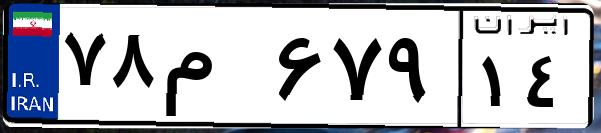1: (475, 38, 525, 113)
4: (525, 38, 570, 115)
6: (270, 28, 330, 110)
7: (330, 28, 385, 110), (57, 26, 110, 100)
8: (110, 28, 158, 98)
9: (385, 28, 445, 110)
م: (158, 20, 270, 120)
